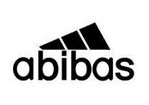adidas Fake: (9, 19, 139, 85)
